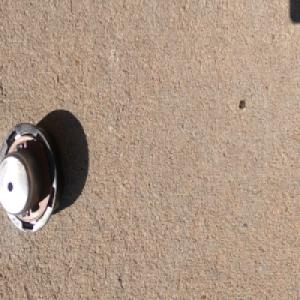FuelCap: (0, 120, 64, 237)
